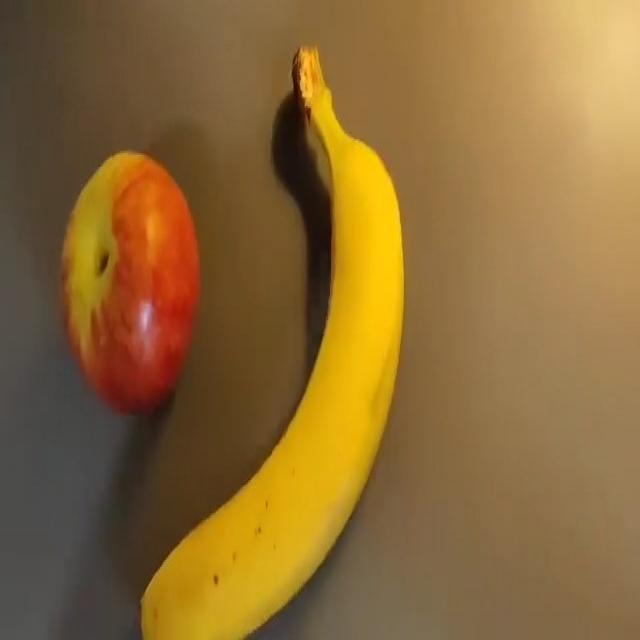Apple: (58, 148, 206, 414)
Banana: (140, 75, 407, 640)
